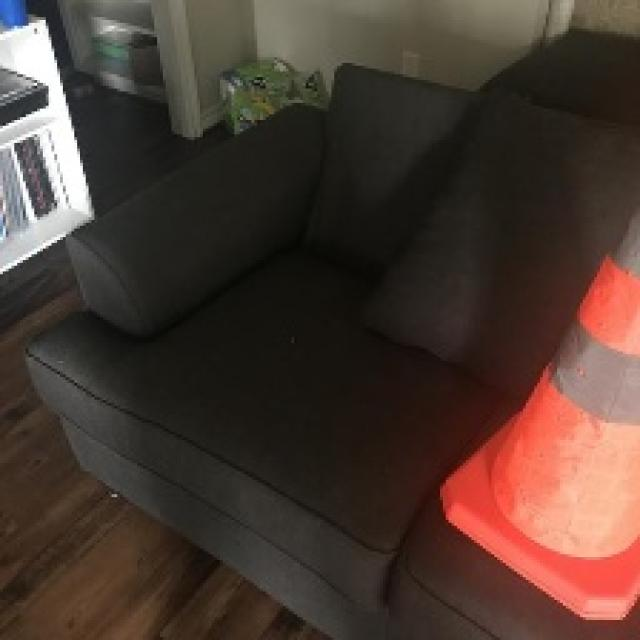cone: (437, 203, 640, 623)
